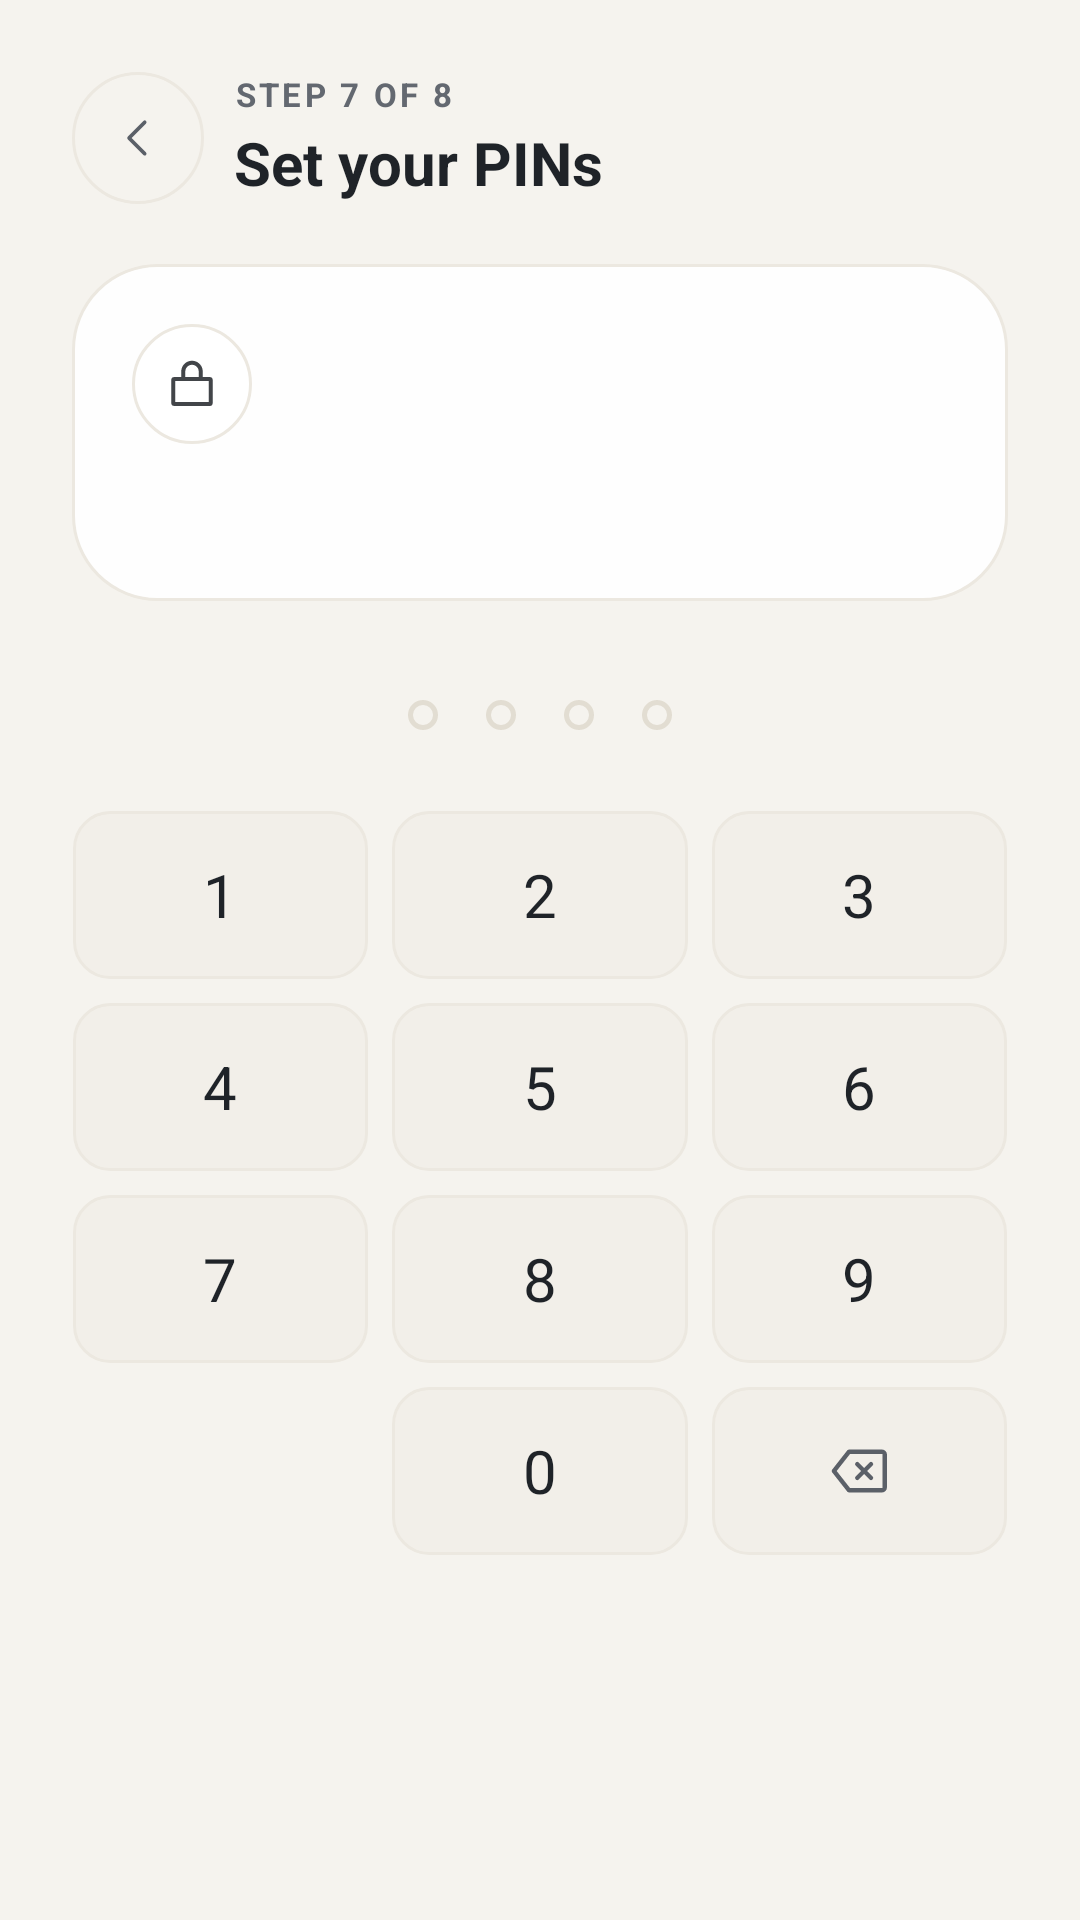

Named icons in this screenshot (1080*1920) and their bounding boxes, bbox(x1, y1, x2, y2):
Back: bbox(127, 120, 147, 156)
Delete: bbox(831, 1449, 887, 1493)
lock: bbox(171, 360, 213, 406)
